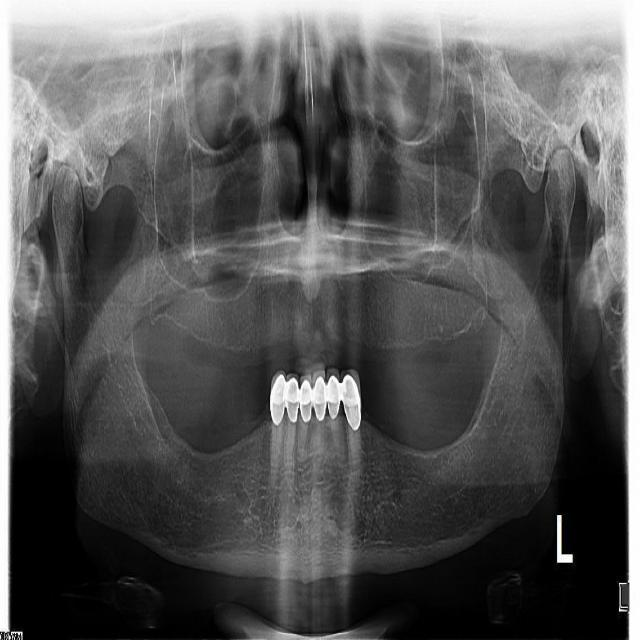Zimmer Implant: (338, 366, 366, 429), (268, 367, 286, 426), (324, 369, 343, 421), (312, 365, 327, 420), (298, 373, 315, 421), (285, 375, 299, 422)
